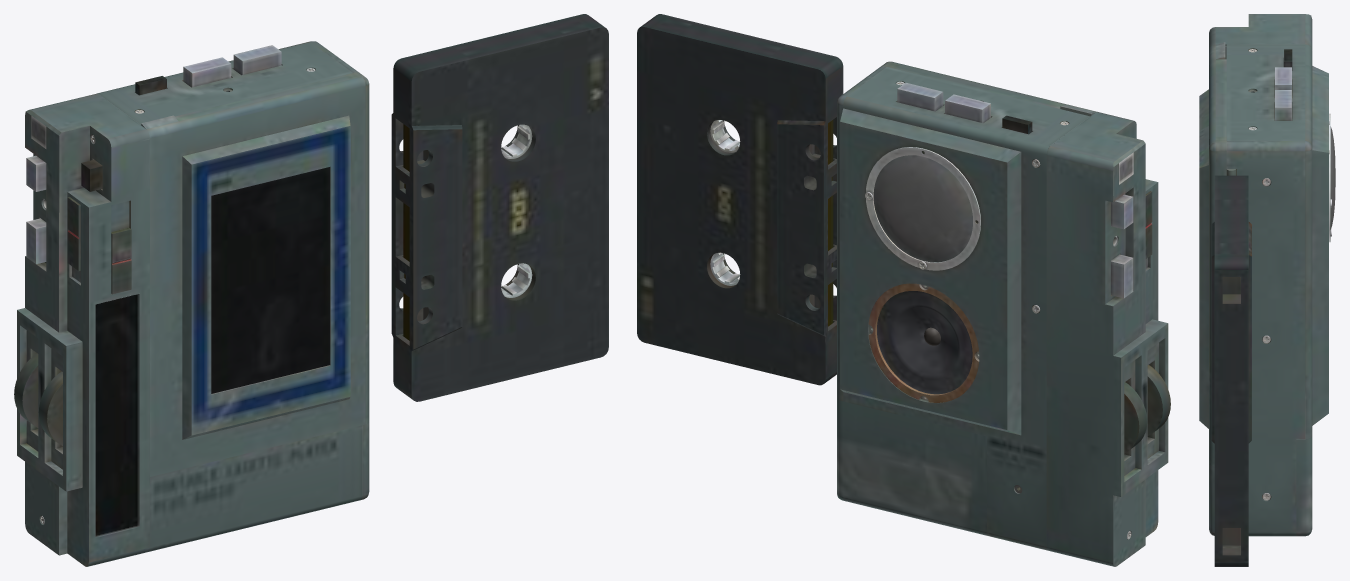
The model's file is portable_cassette_player.gltf.
The picture shows the model from 3 angles, left to right: view 1: azimuth 30°, elevation 25°; view 2: azimuth 150°, elevation 25°; view 3: azimuth 270°, elevation 25°; orthographic projection. The views are drawn at different scales.
Parts seen in each view (by area): view 1: portable_cassette_player, portable_cassette_player_lid, portable_cassette_player_casette; view 2: portable_cassette_player, portable_cassette_player_casette, portable_cassette_player_lid; view 3: portable_cassette_player, portable_cassette_player_casette, portable_cassette_player_lid.
Boxes of the visible parts, box(x1,y1,x2,y2) form: portable_cassette_player: box(14, 41, 369, 566); portable_cassette_player_lid: box(141, 72, 369, 476); portable_cassette_player_casette: box(391, 14, 608, 401); portable_cassette_player: box(837, 66, 1170, 566); portable_cassette_player_casette: box(637, 14, 843, 385); portable_cassette_player_lid: box(881, 61, 1097, 116); portable_cassette_player: box(1209, 14, 1335, 536); portable_cassette_player_casette: box(1211, 175, 1251, 566); portable_cassette_player_lid: box(1199, 42, 1235, 466).
Bounding box in the file's own units: 0.1723 × 0.1303 × 0.0397.
2 materials, 2 textured.
